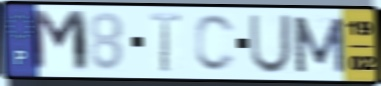8: (88, 9, 128, 74)
C: (193, 12, 238, 75)
M: (28, 8, 92, 75), (290, 14, 348, 75)
T: (147, 10, 184, 75)
U: (248, 13, 294, 76)
